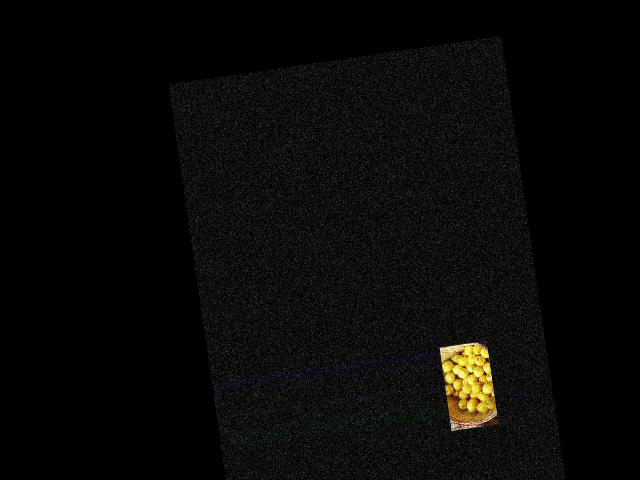lemon: (445, 382, 456, 394)
